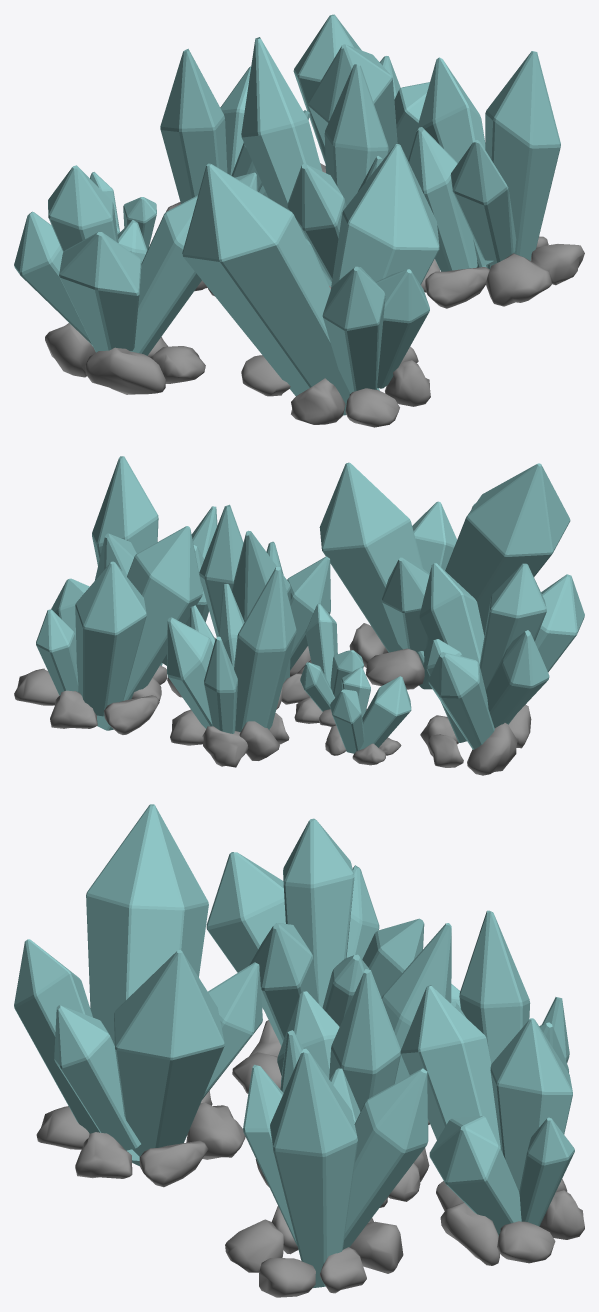
The model's file is crystals.fbx.
3 renders of one model, top to bottom at view 1: azimuth 30°, elevation 25°; view 2: azimuth 150°, elevation 25°; view 3: azimuth 270°, elevation 25°, orthographic. The views are drawn at different scales.
Parts seen in each view (by area): view 1: crystal_2_bevel.001, crystal_3_bevel.001, crystal_4_bevel.001, crystal_5_bevel.001, crystal_6_bevel.001, crystal_1_bevel.001, rocks_2.001, rocks_4.001, rocks_3.001, crystal_8_bevel.001; view 2: crystal_2_bevel.001, crystal_4_bevel.001, crystal_1_bevel.001, crystal_6_bevel.001, crystal_5_bevel.001, crystal_3_bevel.001, crystal_8_bevel.001, rocks_1.001, rocks_4.001, rocks_6.001, crystal_7_bevel.001, rocks_2.001 (+3 smaller); view 3: crystal_2_bevel.001, crystal_1_bevel.001, crystal_3_bevel.001, crystal_4_bevel.001, crystal_5_bevel.001, rocks_2.001, rocks_3.001, crystal_6_bevel.001, rocks_1.001, rocks_4.001, rocks_5.001.
Boxes of the visible parts, x1=… form: crystal_2_bevel.001: x1=182, y1=144, x2=439, y2=415; crystal_3_bevel.001: x1=408, y1=51, x2=560, y2=271; crystal_4_bevel.001: x1=14, y1=165, x2=201, y2=355; crystal_5_bevel.001: x1=241, y1=37, x2=388, y2=286; crystal_6_bevel.001: x1=160, y1=48, x2=309, y2=203; crystal_1_bevel.001: x1=293, y1=14, x2=429, y2=163; rocks_2.001: x1=241, y1=346, x2=430, y2=427; rocks_4.001: x1=45, y1=323, x2=205, y2=394; rocks_3.001: x1=421, y1=236, x2=584, y2=308; crystal_8_bevel.001: x1=90, y1=172, x2=156, y2=250; crystal_2_bevel.001: x1=319, y1=462, x2=570, y2=689; crystal_4_bevel.001: x1=419, y1=563, x2=584, y2=749; crystal_1_bevel.001: x1=36, y1=526, x2=202, y2=730; crystal_6_bevel.001: x1=167, y1=567, x2=296, y2=733; crystal_5_bevel.001: x1=199, y1=504, x2=330, y2=683; crystal_3_bevel.001: x1=92, y1=456, x2=217, y2=665; crystal_8_bevel.001: x1=330, y1=667, x2=411, y2=753; rocks_1.001: x1=14, y1=668, x2=161, y2=734; rocks_4.001: x1=420, y1=704, x2=531, y2=775; rocks_6.001: x1=170, y1=709, x2=289, y2=767; crystal_7_bevel.001: x1=300, y1=603, x2=363, y2=711; rocks_2.001: x1=349, y1=623, x2=424, y2=689; crystal_2_bevel.001: x1=14, y1=804, x2=262, y2=1166; crystal_1_bevel.001: x1=400, y1=985, x2=574, y2=1235; crystal_3_bevel.001: x1=243, y1=1048, x2=428, y2=1288; crystal_4_bevel.001: x1=206, y1=818, x2=424, y2=1045; crystal_5_bevel.001: x1=277, y1=923, x2=451, y2=1111; rocks_2.001: x1=36, y1=1091, x2=245, y2=1187; rocks_3.001: x1=225, y1=1206, x2=403, y2=1297; crystal_6_bevel.001: x1=450, y1=910, x2=569, y2=1072; rocks_1.001: x1=436, y1=1179, x2=584, y2=1265; rocks_4.001: x1=232, y1=1020, x2=281, y2=1093; rocks_5.001: x1=255, y1=1148, x2=429, y2=1207.
Bounding box in the file's own units: 1666 × 817 × 1437.
